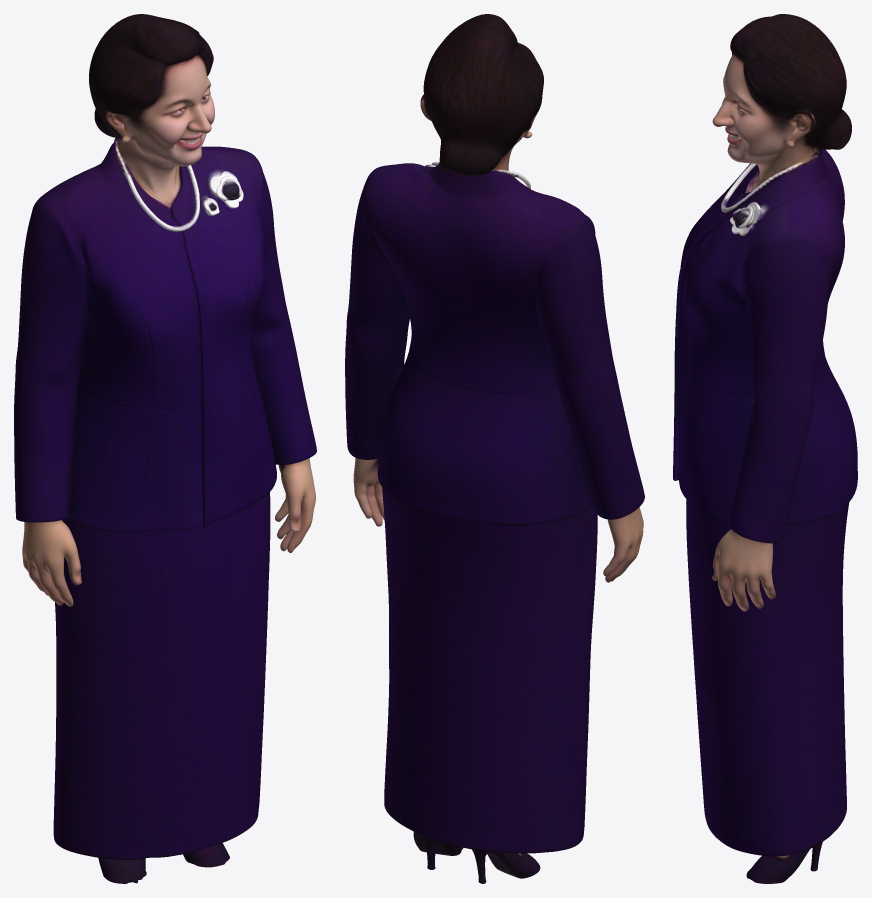
Rendered from Diosdado(female).glb.
3 renders of one model, left to right at view 1: azimuth 30°, elevation 25°; view 2: azimuth 150°, elevation 25°; view 3: azimuth 270°, elevation 25°, orthographic. The views are drawn at different scales.
Size of the model in its own units: 0.4282 by 1.19 by 0.2382.
1 material, 1 textured.
